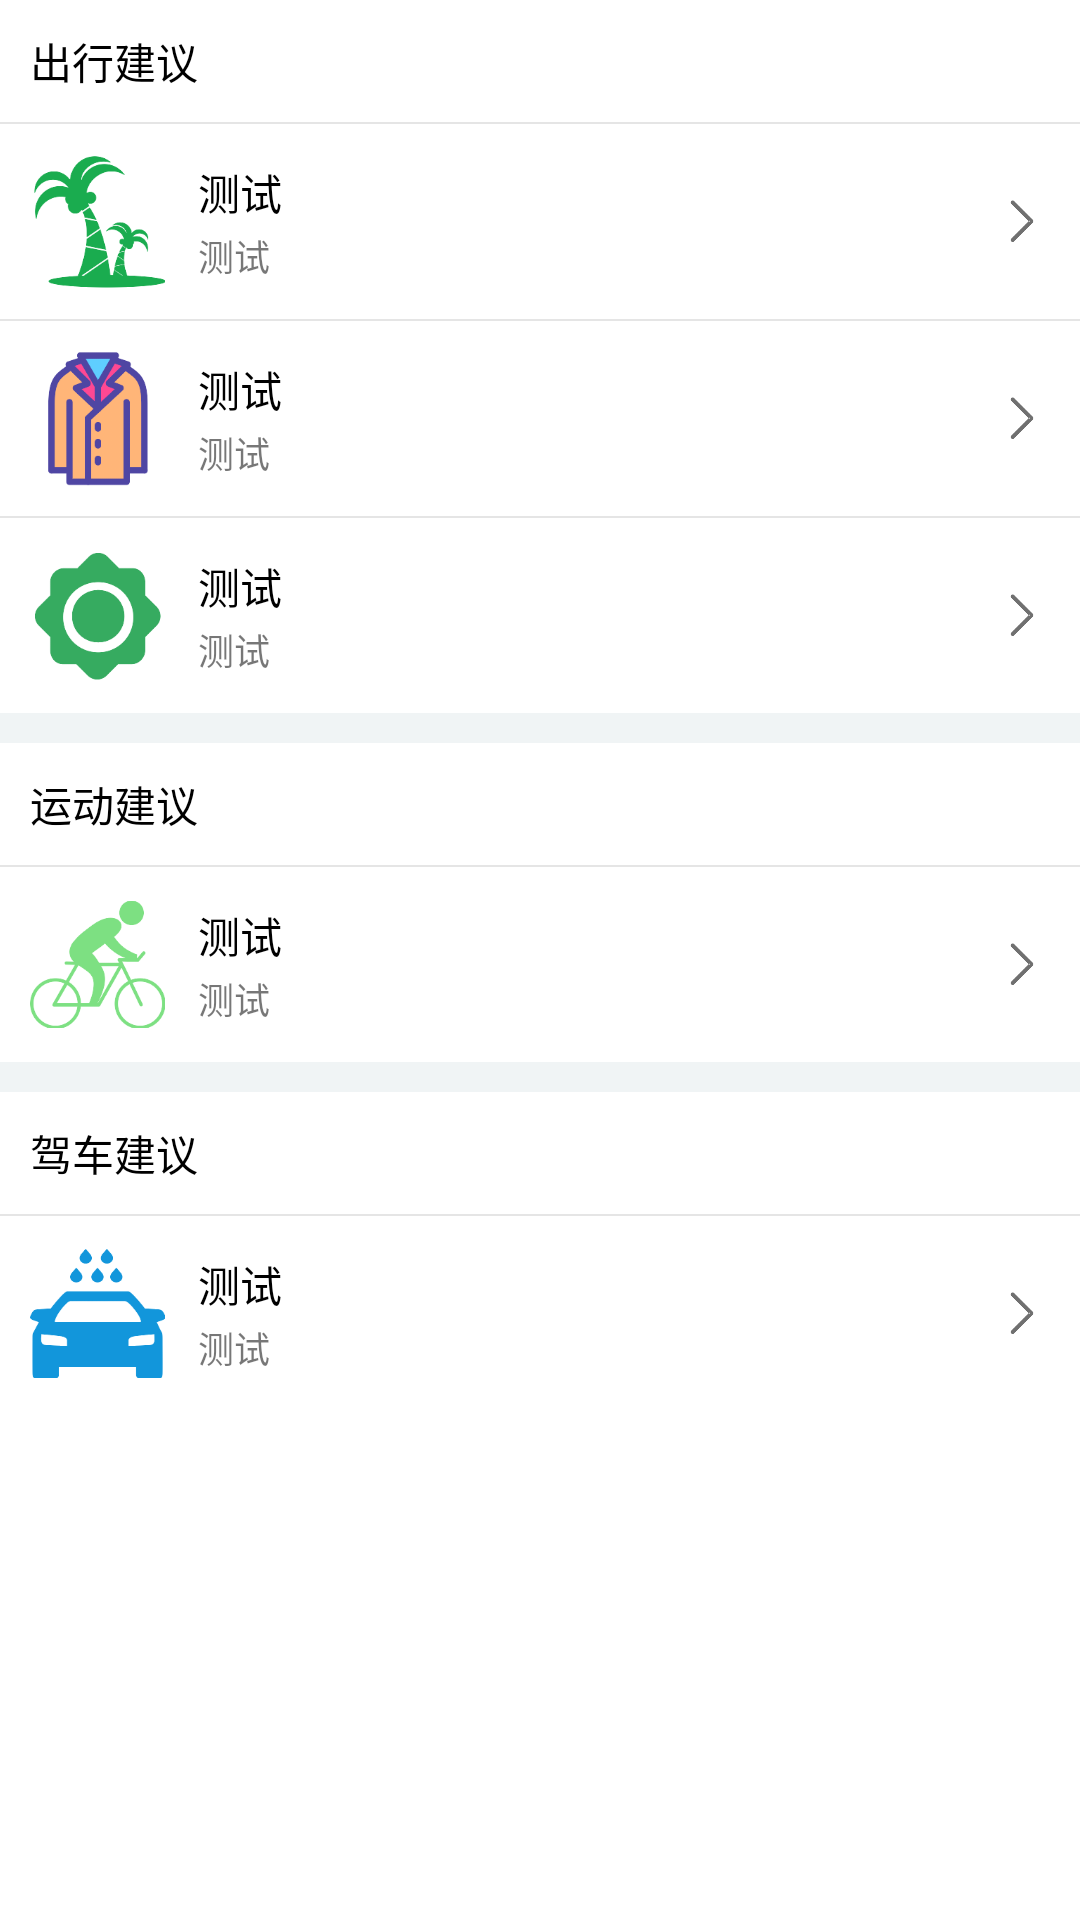

Icons on this 1080px x 1920px Android screen, each with its box as Rect(x1, y1, x2, y2):
suggestion car: Rect(30, 1249, 165, 1378)
suggestion dress: Rect(48, 352, 148, 486)
suggestion sport: Rect(30, 901, 165, 1028)
suggestion sunny: Rect(35, 553, 161, 680)
suggestion travel: Rect(34, 156, 165, 288)
